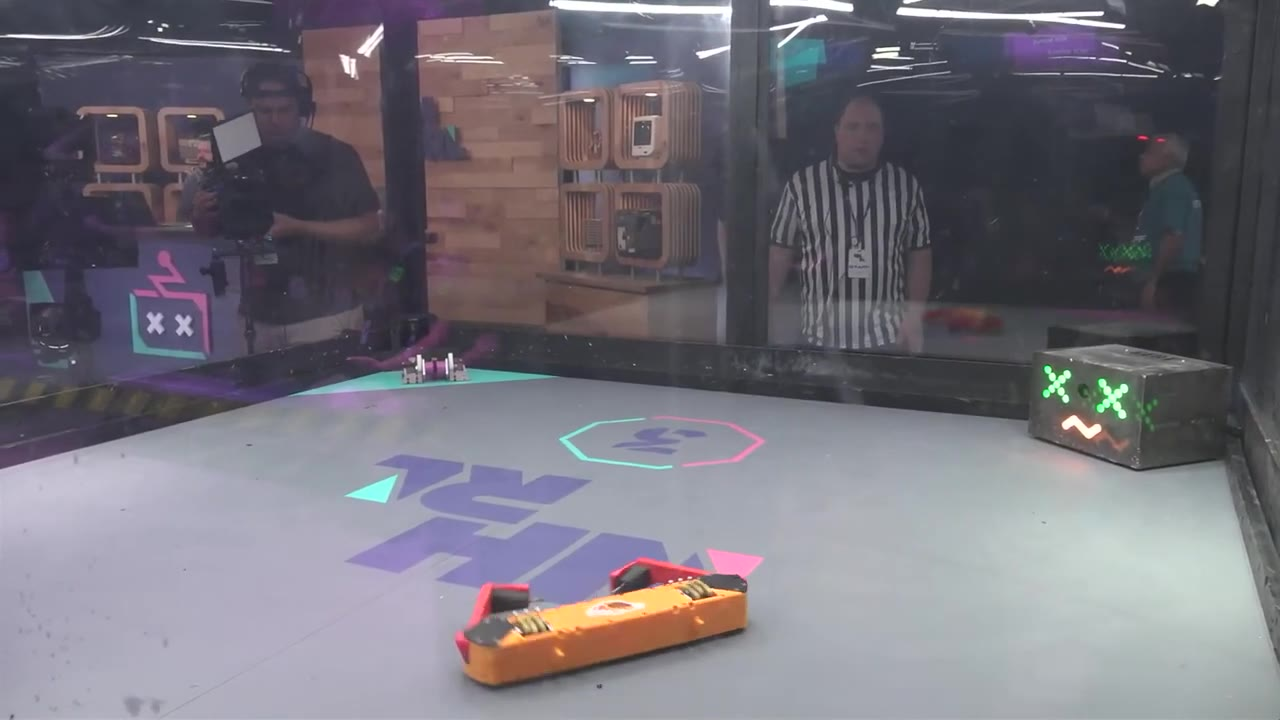combatbot: (455, 555, 752, 691), (399, 352, 468, 385)
housebot: (1025, 339, 1233, 471)
